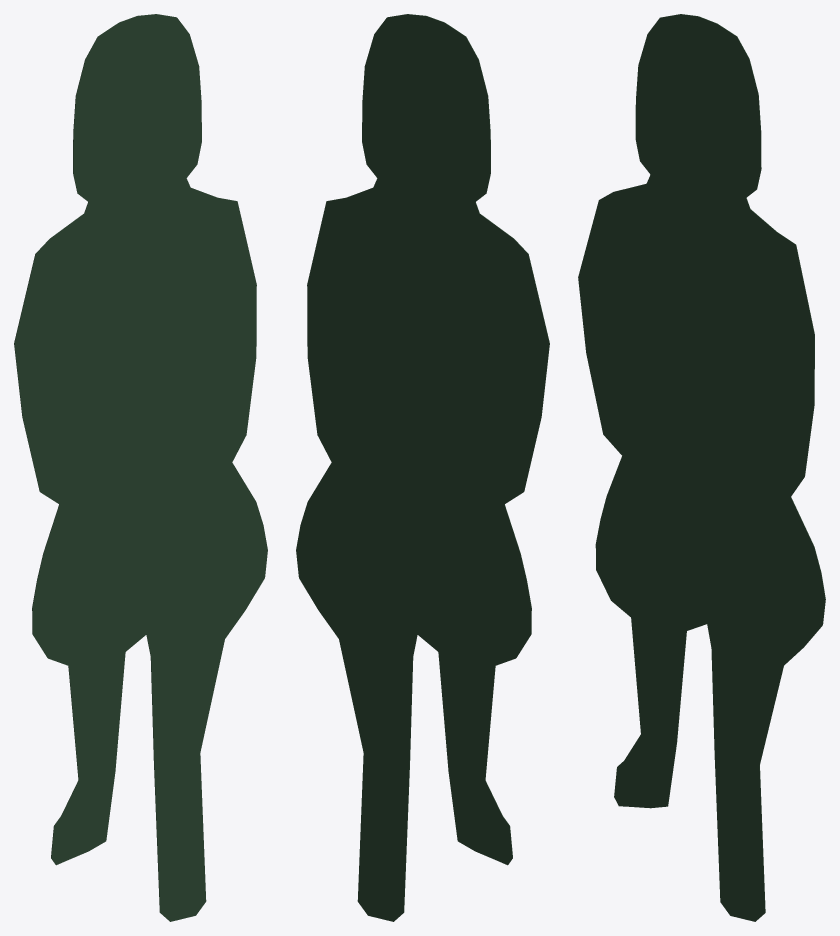
Rendered from elderwoman_sitting.fbx.
The picture shows the model from 3 angles, left to right: view 1: azimuth 30°, elevation 25°; view 2: azimuth 150°, elevation 25°; view 3: azimuth 330°, elevation 25°; orthographic projection. The views are drawn at different scales.
Visible parts, largest first — view 1: elderwoman_sitting; view 2: elderwoman_sitting; view 3: elderwoman_sitting.
Part boxes in pixels (bbox=[...]): elderwoman_sitting: bbox=[14, 14, 267, 921]; elderwoman_sitting: bbox=[296, 14, 549, 921]; elderwoman_sitting: bbox=[578, 14, 825, 921].
Size of the model in its own units: 12.88 by 44.35 by 0.0309.
